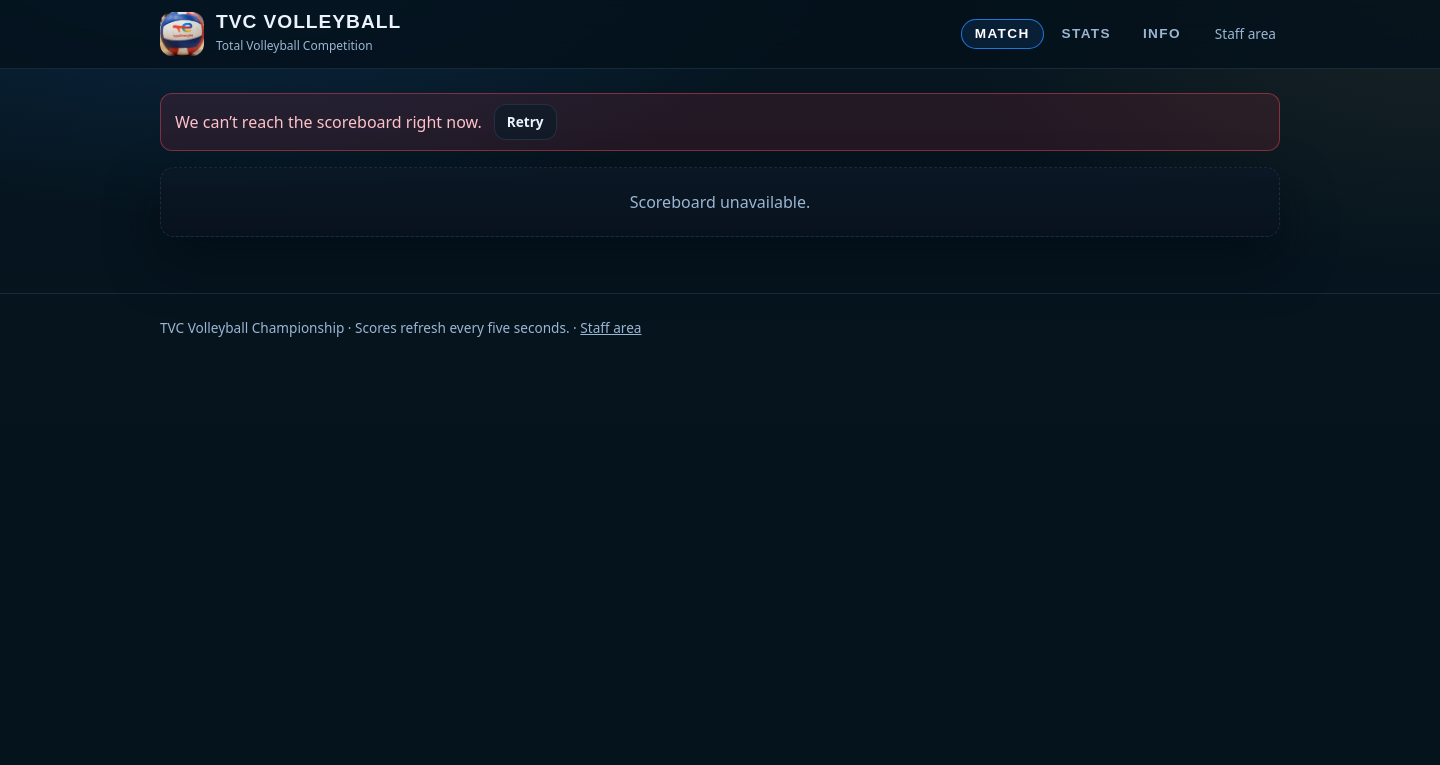
it: public scoreboard › shows a connection error with Retry, keeps old data, and recovers
Check: the text "We can’t reach the scoreboard right now." is shown, box [175,110,482,134]
Check: the text "Scoreboard unavailable." is shown, box [160,167,1280,237]
Click the button "Retry" at (525,122), box [494,104,556,140]
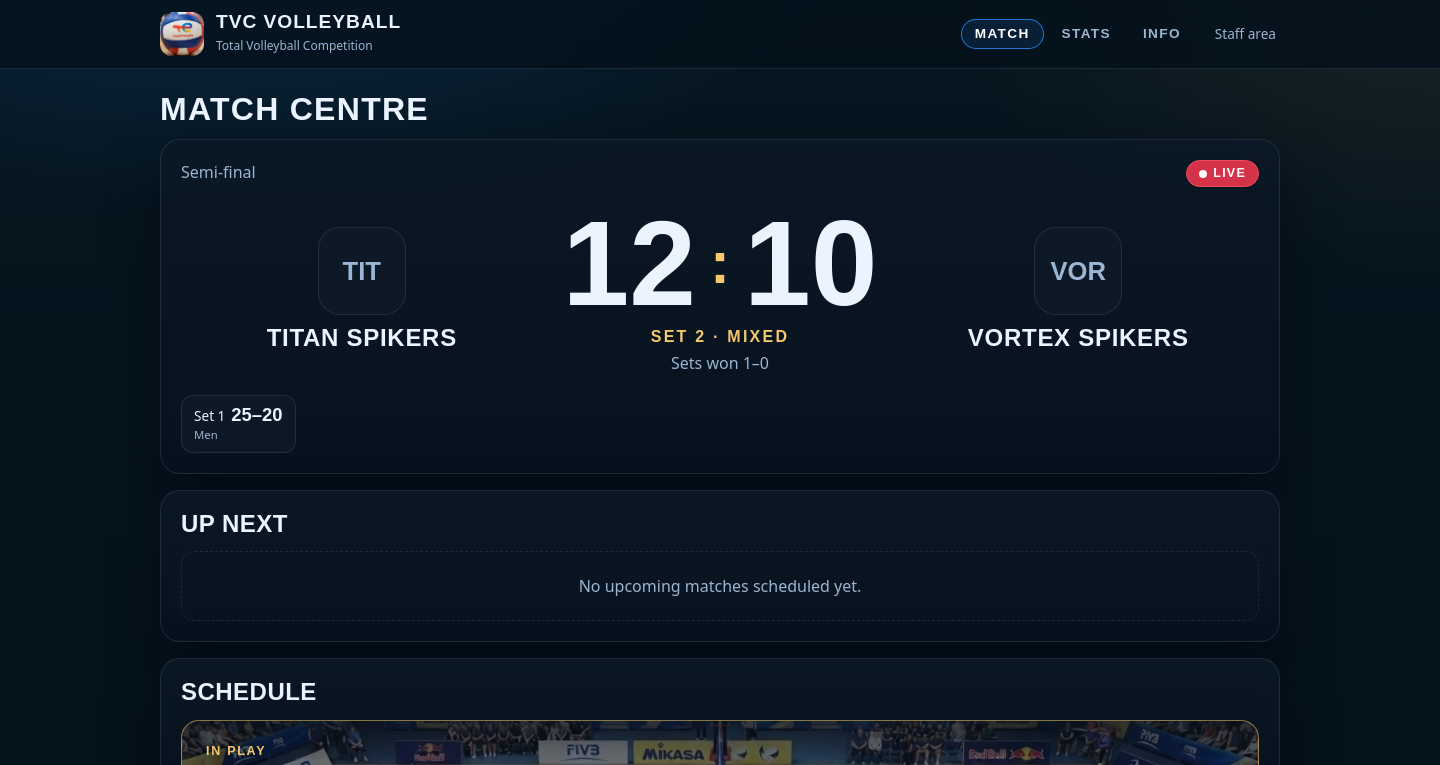
Check: the text "We can’t reach the scoreboard" is gone
